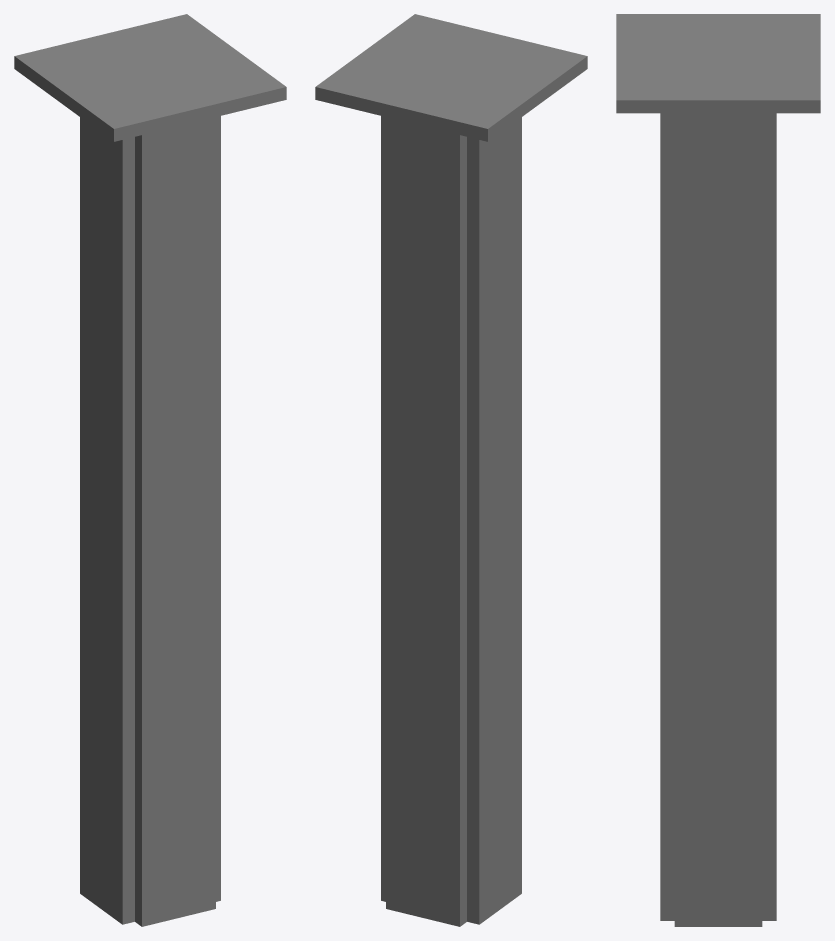
The model's file is store_fill_pillar.obj.
3 views of the same model, side by side, from view 1: azimuth 30°, elevation 25°; view 2: azimuth 150°, elevation 25°; view 3: azimuth 270°, elevation 25° (orthographic). The views are drawn at different scales.
Visible parts, largest first — view 1: store_fill_pillar; view 2: store_fill_pillar; view 3: store_fill_pillar.
Part boxes in pixels (x1,y1,x2,y2): store_fill_pillar: (14,14,286,926); store_fill_pillar: (315,14,587,926); store_fill_pillar: (616,14,820,926).
Size of the model in its own units: 14 by 64 by 14.
Materials: 1 (1 with a texture image).
